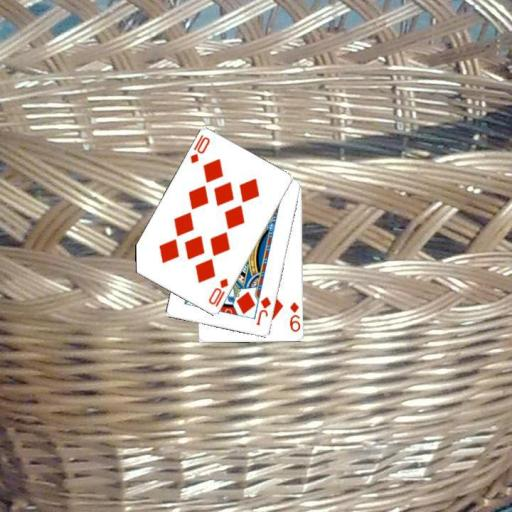10D: (206, 275, 230, 309), (187, 132, 211, 166)
9D: (287, 300, 301, 334)
JD: (254, 294, 273, 327)
